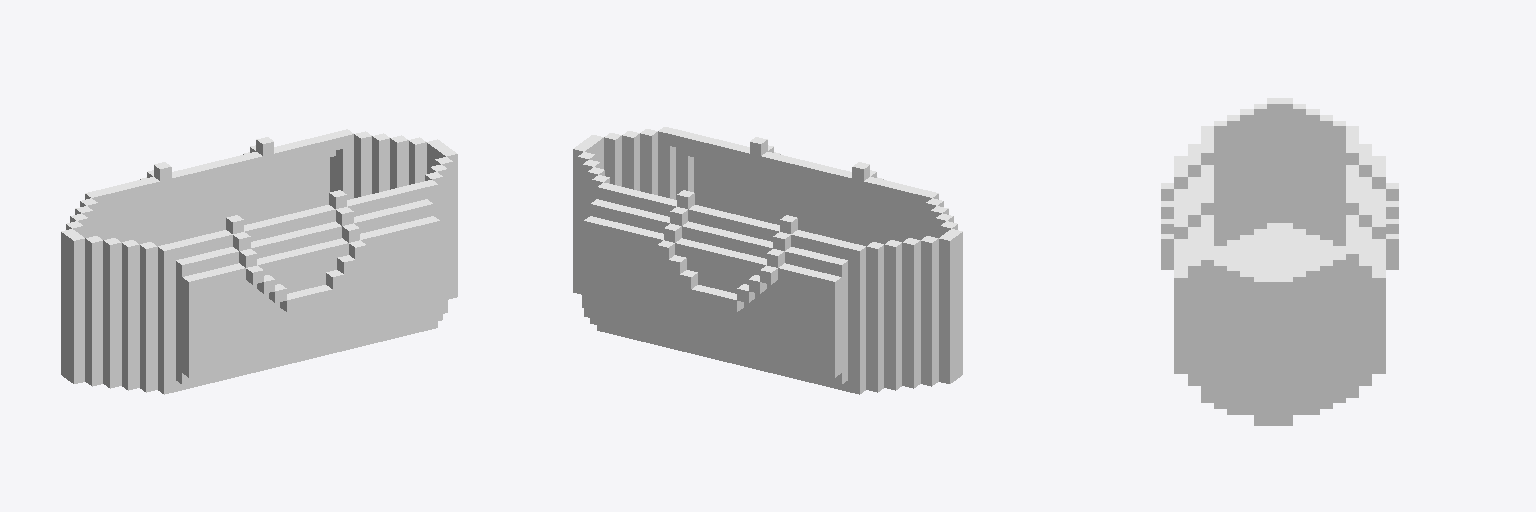
File: Shnta.obj
The picture shows the model from 3 angles: view 1: azimuth 30°, elevation 25°; view 2: azimuth 150°, elevation 25°; view 3: azimuth 270°, elevation 25°; orthographic projection.
Visible parts, largest first — view 1: object 1; view 2: object 1; view 3: object 1.
Part boxes in pixels (x1,y1,x2,y2): object 1: (61,129,457,394); object 1: (573,127,962,394); object 1: (1161,98,1398,425).
Bounding box in the file's own units: 3.3 × 1.3 × 1.8.